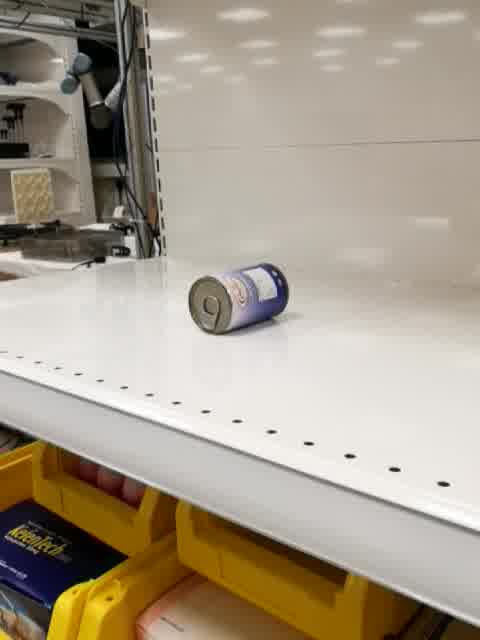sardine: (190, 263, 289, 335)
